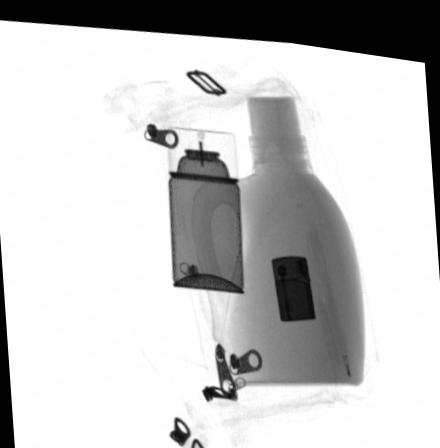Lighter: (272, 245, 315, 311)
Sprayer: (166, 120, 244, 287)
